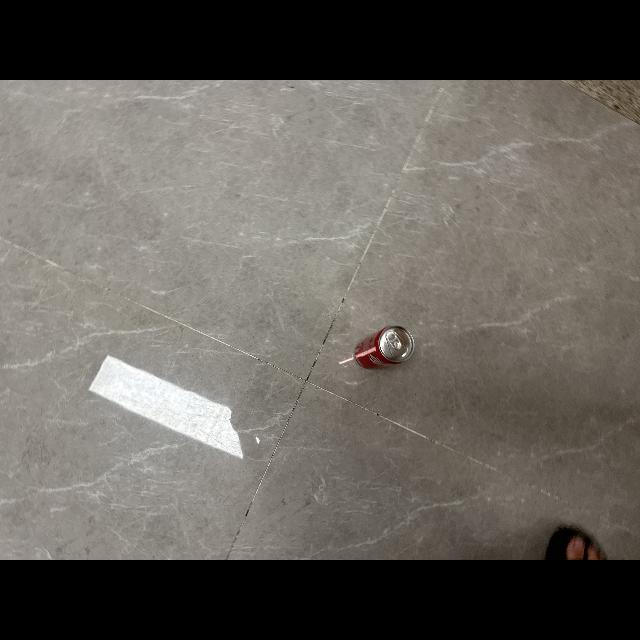Cola: (352, 322, 422, 376)
